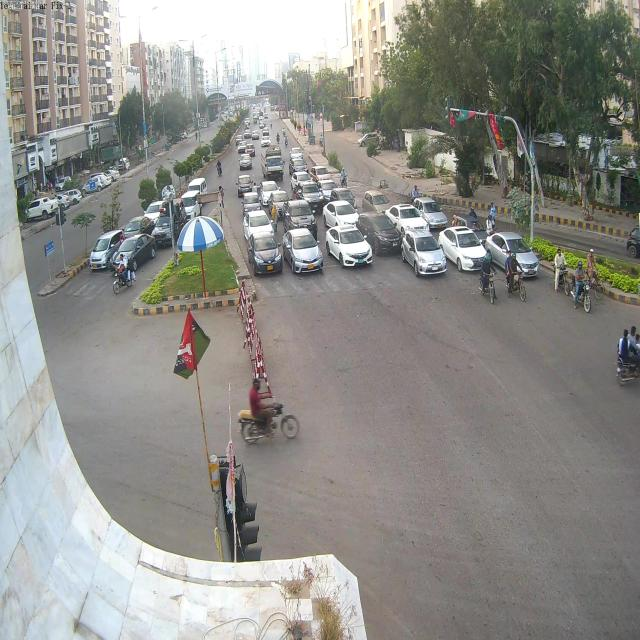car: (485, 231, 541, 278), (400, 228, 448, 276), (439, 229, 491, 272), (326, 227, 376, 268), (282, 228, 323, 274), (245, 230, 283, 275), (384, 206, 430, 240), (88, 231, 124, 269), (118, 234, 156, 266), (286, 199, 316, 233), (324, 202, 359, 231), (290, 172, 320, 200), (122, 217, 158, 239), (27, 198, 61, 221), (422, 211, 452, 234), (363, 191, 391, 215), (260, 188, 290, 208), (243, 209, 270, 230), (152, 218, 173, 244), (625, 224, 640, 257), (332, 188, 357, 207), (412, 197, 440, 213), (240, 192, 261, 212), (185, 178, 208, 196), (83, 176, 107, 193), (181, 192, 201, 212), (312, 165, 335, 182), (544, 132, 568, 146), (316, 182, 336, 198), (146, 202, 167, 215), (237, 174, 253, 190), (64, 190, 79, 206), (236, 141, 254, 154), (292, 163, 308, 177), (160, 186, 176, 200), (262, 179, 280, 191), (291, 149, 305, 164), (243, 130, 260, 140), (239, 158, 252, 170), (56, 176, 70, 187), (358, 135, 369, 146), (261, 139, 271, 149), (261, 130, 271, 140), (378, 181, 388, 190)
motorbike: (238, 380, 300, 444), (237, 406, 300, 446), (615, 326, 640, 386), (505, 250, 526, 302), (571, 261, 591, 313), (112, 255, 135, 295), (479, 257, 497, 304), (554, 248, 570, 296), (617, 357, 639, 384), (339, 167, 348, 190), (215, 157, 224, 179), (276, 131, 280, 144), (285, 136, 289, 148)
truck: (257, 150, 286, 182)
